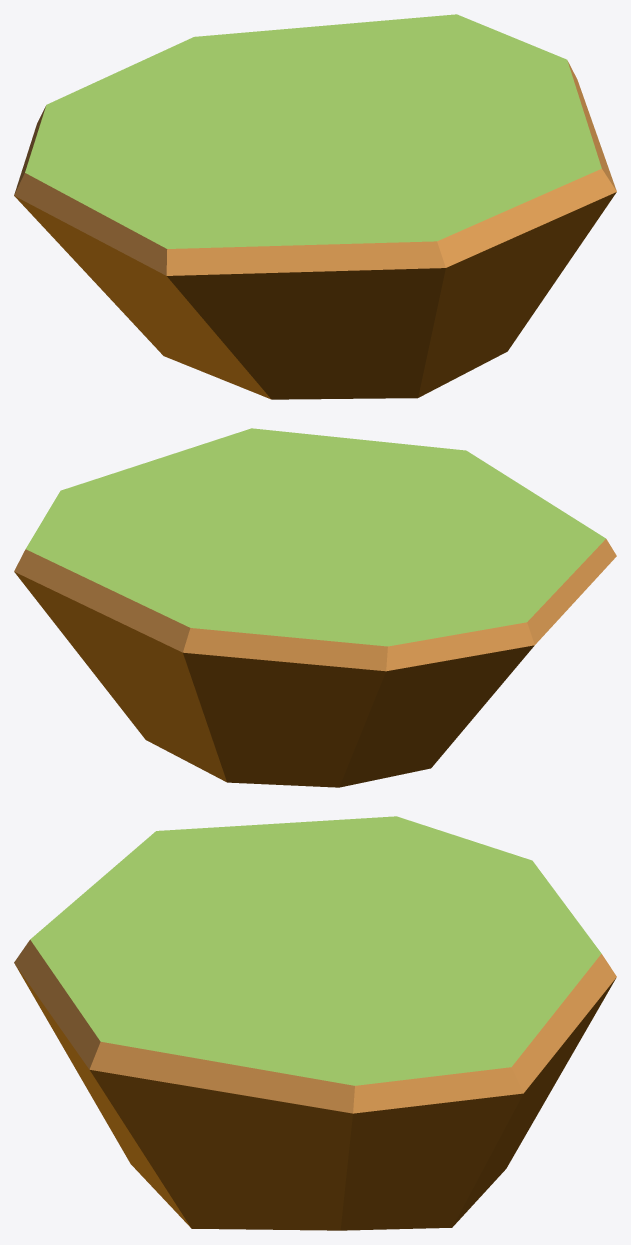
File: island_grass_1.glb
3 renders of one model, top to bottom at view 1: azimuth 30°, elevation 25°; view 2: azimuth 150°, elevation 25°; view 3: azimuth 270°, elevation 25°, orthographic. The views are drawn at different scales.
Parts seen in each view (by area): view 1: Cube; view 2: Cube; view 3: Cube.
Boxes of the visible parts, <box> form: Cube: <box>14,14,616,399</box>; Cube: <box>14,428,616,787</box>; Cube: <box>14,816,616,1230</box>.
Size of the model in its own units: 3.24 by 1.15 by 2.95.
